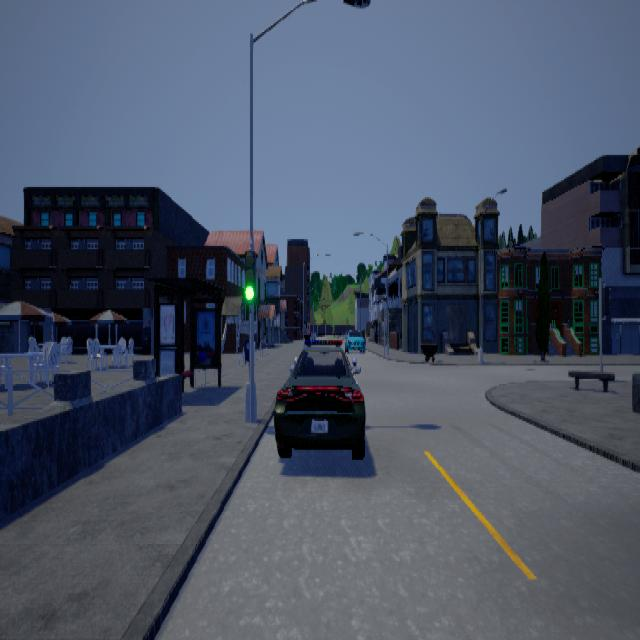green_light: (246, 239, 257, 312)
vehicle: (275, 334, 366, 458), (345, 328, 368, 354)
